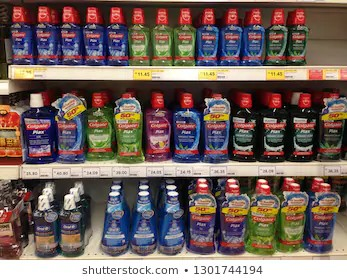colgate-Plax: (258, 90, 292, 163), (21, 93, 55, 165), (112, 91, 145, 165), (199, 94, 232, 164), (143, 89, 174, 162), (313, 91, 345, 161), (53, 92, 84, 164), (173, 89, 201, 164), (84, 91, 112, 163), (232, 93, 259, 164), (187, 198, 220, 255), (308, 184, 335, 250), (55, 7, 84, 66), (251, 193, 281, 250), (7, 7, 35, 64), (292, 90, 313, 163), (33, 7, 60, 63), (219, 195, 246, 251), (218, 8, 244, 65), (149, 8, 173, 67), (173, 7, 196, 67), (196, 7, 219, 65), (105, 7, 127, 67), (281, 196, 304, 252), (127, 8, 149, 66), (265, 9, 287, 66), (84, 7, 105, 66), (244, 8, 265, 66), (287, 8, 307, 65)
